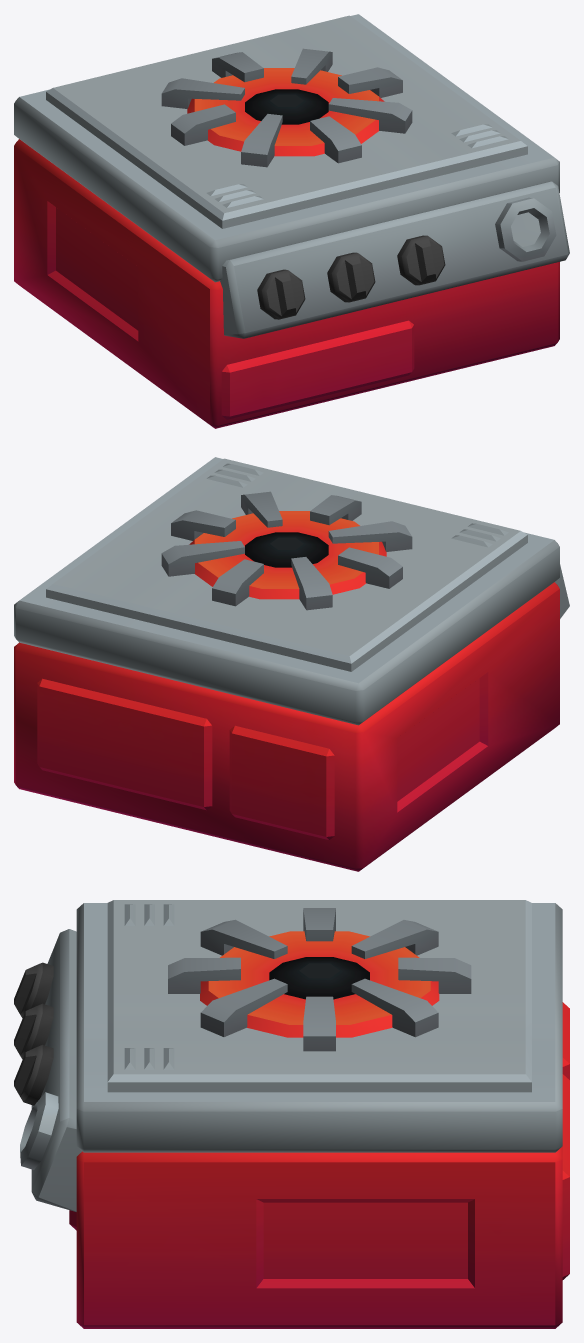
File: stove.glb
The picture shows the model from 3 angles, top to bottom: view 1: azimuth 30°, elevation 25°; view 2: azimuth 150°, elevation 25°; view 3: azimuth 270°, elevation 25°; orthographic projection. The views are drawn at different scales.
Parts seen in each view (by area): view 1: stove_single; view 2: stove_single; view 3: stove_single.
Part boxes in pixels (x1,y1,x2,y2): stove_single: (14, 14, 569, 428); stove_single: (14, 457, 569, 871); stove_single: (14, 900, 569, 1328).
Size of the model in its own units: 2 by 1.21 by 2.29.
1 material, 1 textured.
